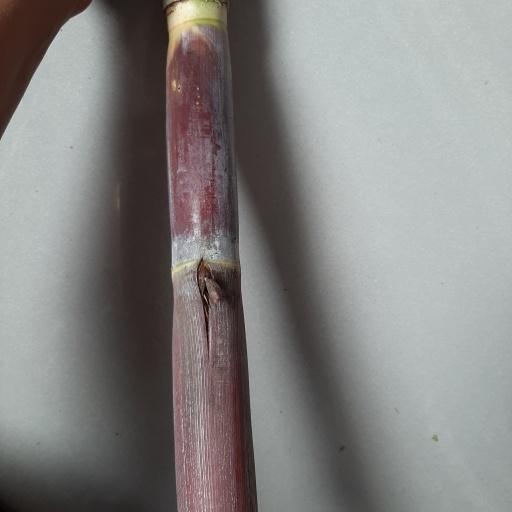Damage_Bud: (195, 259, 221, 334)
